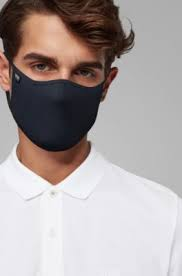with-mask: (1, 2, 137, 154)
